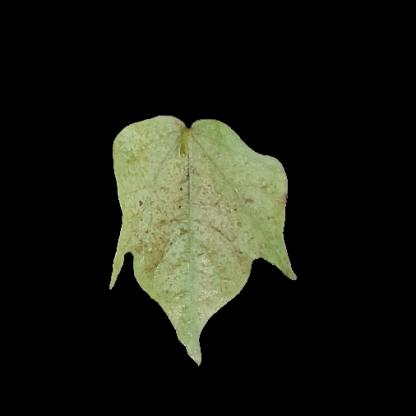curl_stage1: (131, 154, 223, 261)
